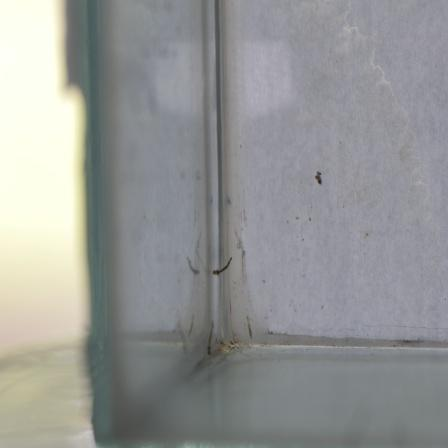Jentik-Nyamuk: (210, 253, 234, 281), (203, 317, 217, 362), (310, 168, 326, 188)
